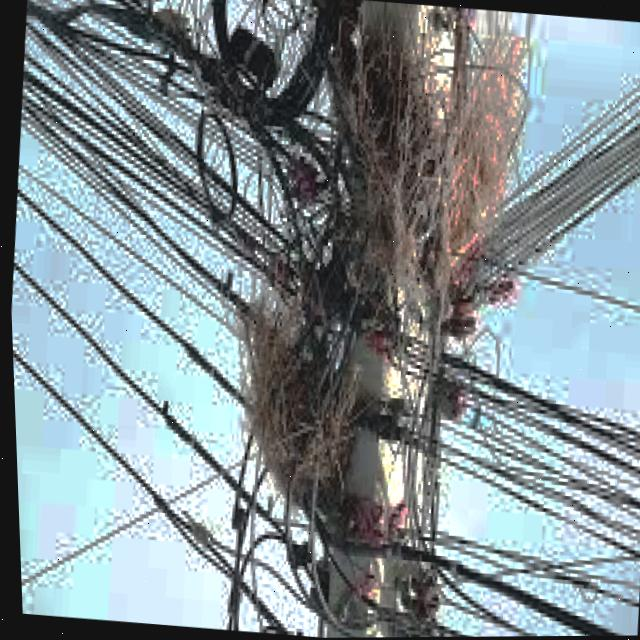obstruction: (245, 48, 522, 499)
poles: (312, 350, 431, 638), (360, 4, 406, 49)
wires: (11, 262, 357, 638), (20, 1, 290, 316), (10, 354, 293, 636), (15, 189, 241, 411), (396, 539, 634, 637), (437, 357, 640, 457), (503, 125, 640, 265), (422, 629, 461, 638)
